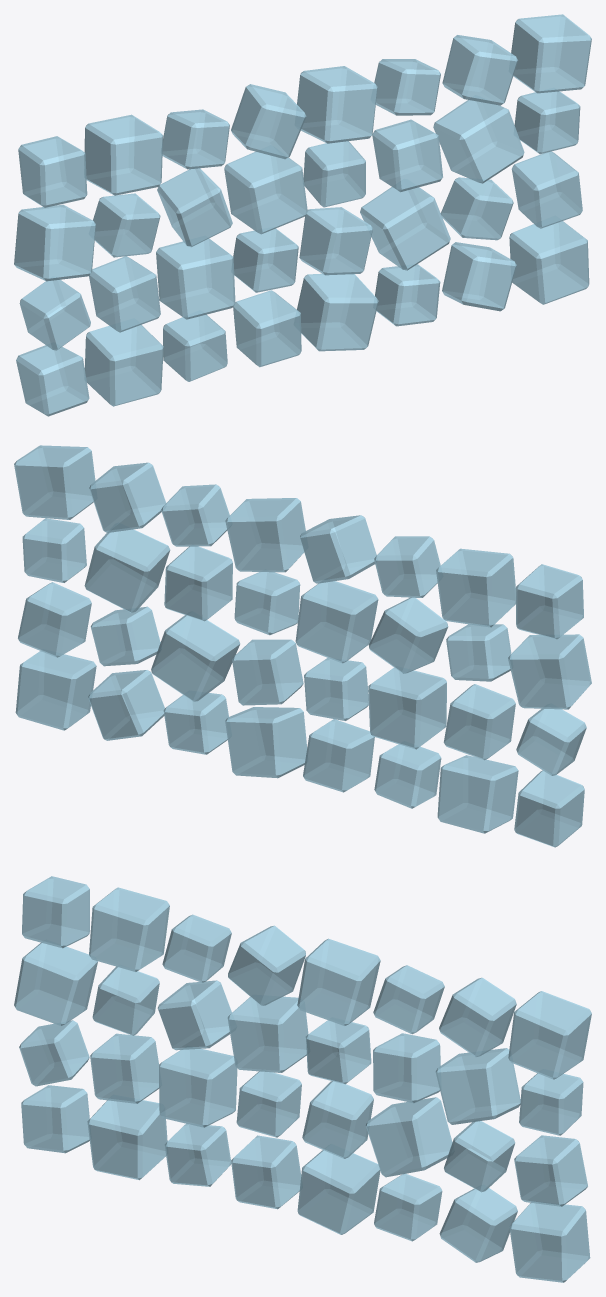
The model's file is IceProps.fbx.
3 renders of one model, top to bottom at view 1: azimuth 30°, elevation 25°; view 2: azimuth 150°, elevation 25°; view 3: azimuth 330°, elevation 25°, orthographic.
Visible parts, largest first — view 1: IceCube_26.001, IceCube_17.001, IceCube_23.001, IceCube_32.001, IceCube_05.001, IceCube_02.001, IceCube_20.001, IceCube_08.001, IceCube_11.001, IceCube_29.001, IceCube_14.001, IceCube_04.001 (+20 smaller); view 2: IceCube_26.001, IceCube_11.001, IceCube_17.001, IceCube_20.001, IceCube_02.001, IceCube_32.001, IceCube_05.001, IceCube_29.001, IceCube_14.001, IceCube_08.001, IceCube_23.001, IceCube_22.001 (+20 smaller); view 3: IceCube_32.001, IceCube_08.001, IceCube_11.001, IceCube_26.001, IceCube_29.001, IceCube_05.001, IceCube_02.001, IceCube_17.001, IceCube_14.001, IceCube_20.001, IceCube_23.001, IceCube_16.001 (+20 smaller).
Boxes of the visible parts, x1,y1,x2,y2 form: IceCube_26.001: [84, 114, 163, 195]; IceCube_17.001: [14, 204, 95, 281]; IceCube_23.001: [433, 100, 524, 183]; IceCube_32.001: [511, 14, 591, 93]; IceCube_05.001: [297, 273, 378, 351]; IceCube_02.001: [84, 325, 163, 406]; IceCube_20.001: [224, 151, 307, 234]; IceCube_08.001: [509, 221, 589, 304]; IceCube_11.001: [156, 238, 235, 319]; IceCube_29.001: [297, 66, 377, 143]; IceCube_14.001: [360, 187, 450, 270]; IceCube_04.001: [233, 290, 301, 367]; IceCube_26.001: [436, 548, 515, 627]; IceCube_11.001: [368, 667, 446, 749]; IceCube_17.001: [508, 634, 591, 709]; IceCube_20.001: [295, 581, 378, 663]; IceCube_02.001: [437, 755, 518, 833]; IceCube_32.001: [14, 445, 95, 519]; IceCube_05.001: [225, 707, 307, 778]; IceCube_29.001: [225, 498, 305, 572]; IceCube_14.001: [151, 615, 240, 701]; IceCube_08.001: [15, 651, 96, 730]; IceCube_23.001: [84, 529, 170, 612]; IceCube_22.001: [164, 546, 232, 621]; IceCube_32.001: [508, 991, 591, 1079]; IceCube_08.001: [509, 1203, 590, 1282]; IceCube_11.001: [159, 1048, 237, 1127]; IceCube_26.001: [89, 887, 169, 971]; IceCube_29.001: [297, 938, 380, 1025]; IceCube_05.001: [297, 1150, 380, 1234]; IceCube_02.001: [87, 1100, 167, 1180]; IceCube_17.001: [14, 942, 97, 1025]; IceCube_14.001: [365, 1097, 452, 1177]; IceCube_20.001: [227, 996, 308, 1072]; IceCube_23.001: [435, 1048, 520, 1124]; IceCube_16.001: [514, 1135, 587, 1206].
Bounding box in the file's own units: 0.4159 × 0.1938 × 0.0469.
